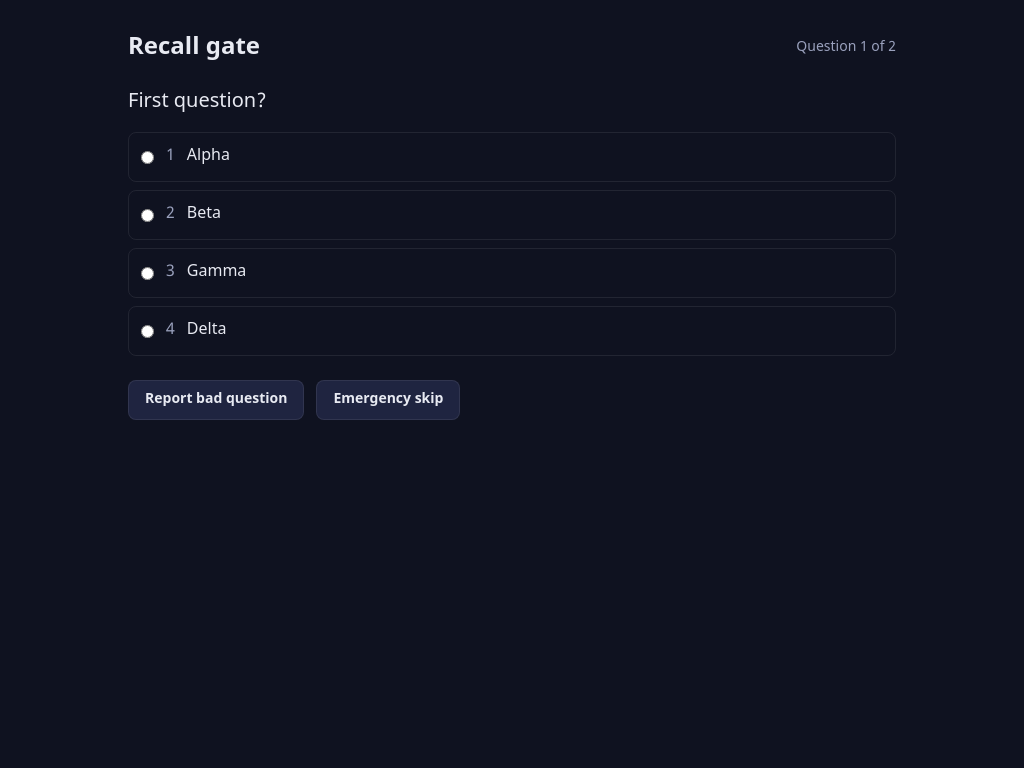
Test: GateView › reporting a bad question removes it from the gate
Expected: the text "First question?" is shown, left=128, top=89, right=266, bottom=115
Click the button "Report bad question" at (216, 400), box left=128, top=380, right=304, bottom=420
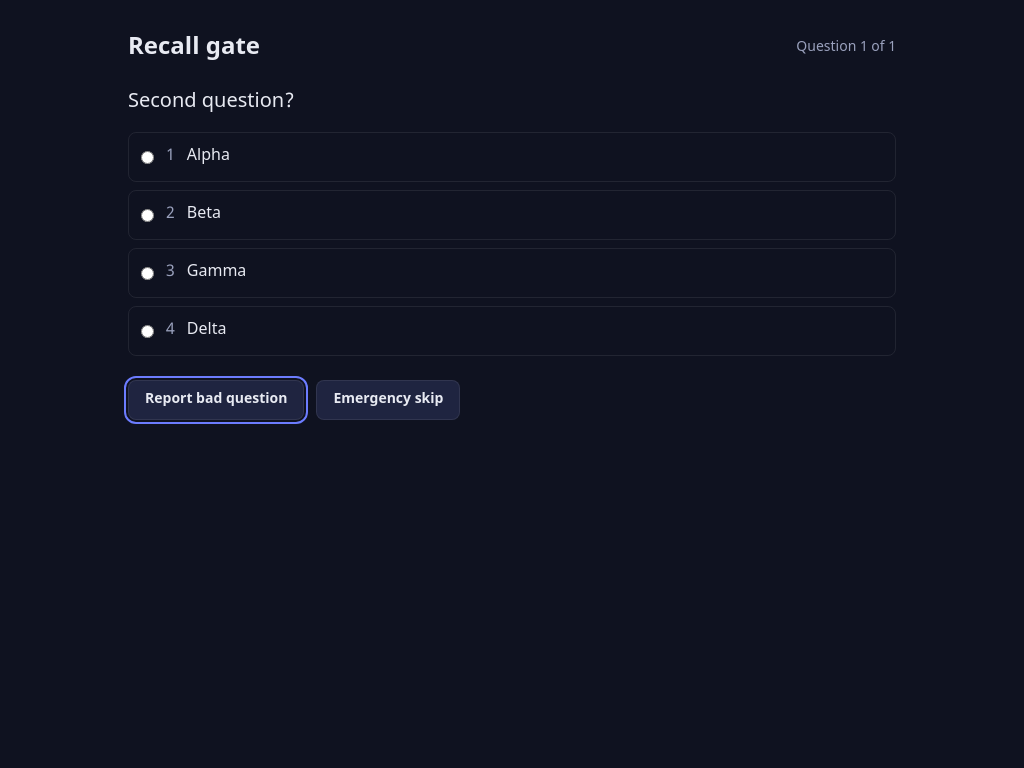
Result: the text "Second question?" is shown at left=128, top=89, right=294, bottom=115
Result: the text "Question 1 of 1" is shown at left=796, top=38, right=896, bottom=58
